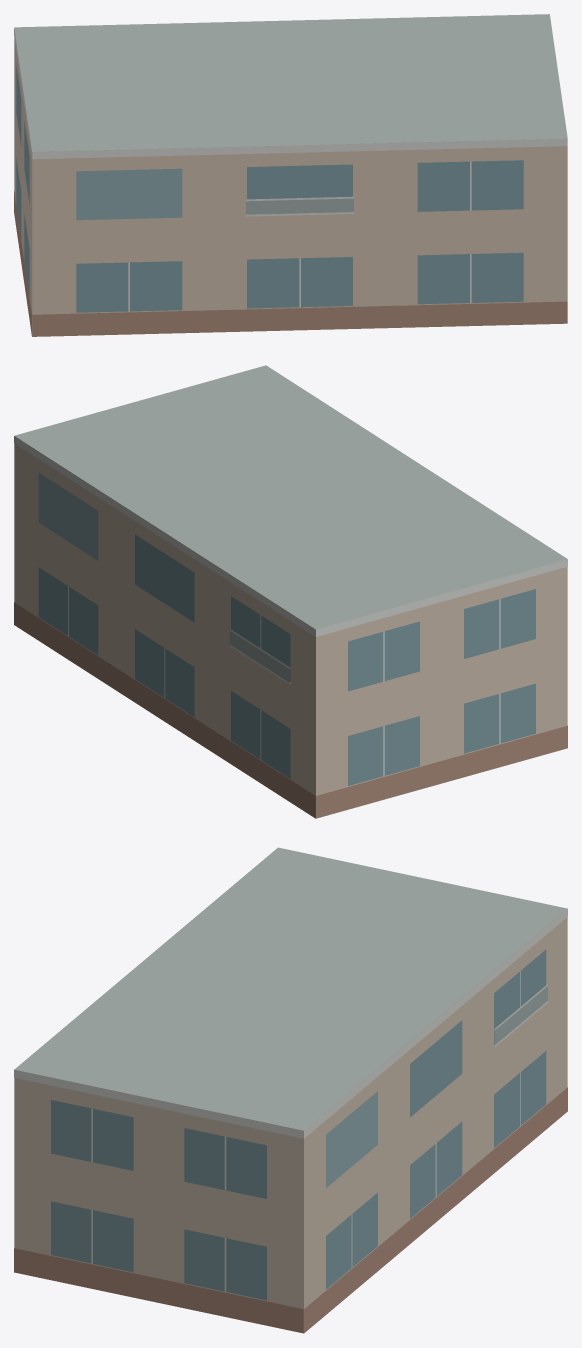
The model's file is survey-upis-32946741.glb.
3 renders of one model, top to bottom at view 1: azimuth 30°, elevation 25°; view 2: azimuth 150°, elevation 25°; view 3: azimuth 270°, elevation 25°, orthographic. The views are drawn at different scales.
Visible parts, largest first — view 1: survey-upis-32946741.tmp; view 2: survey-upis-32946741.tmp; view 3: survey-upis-32946741.tmp.
Part boxes in pixels (x1=…): survey-upis-32946741.tmp: x1=14, y1=14, x2=567, y2=336; survey-upis-32946741.tmp: x1=14, y1=365, x2=567, y2=818; survey-upis-32946741.tmp: x1=14, y1=847, x2=567, y2=1333.
Size of the model in its own units: 18.29 by 6.1 by 15.11.
